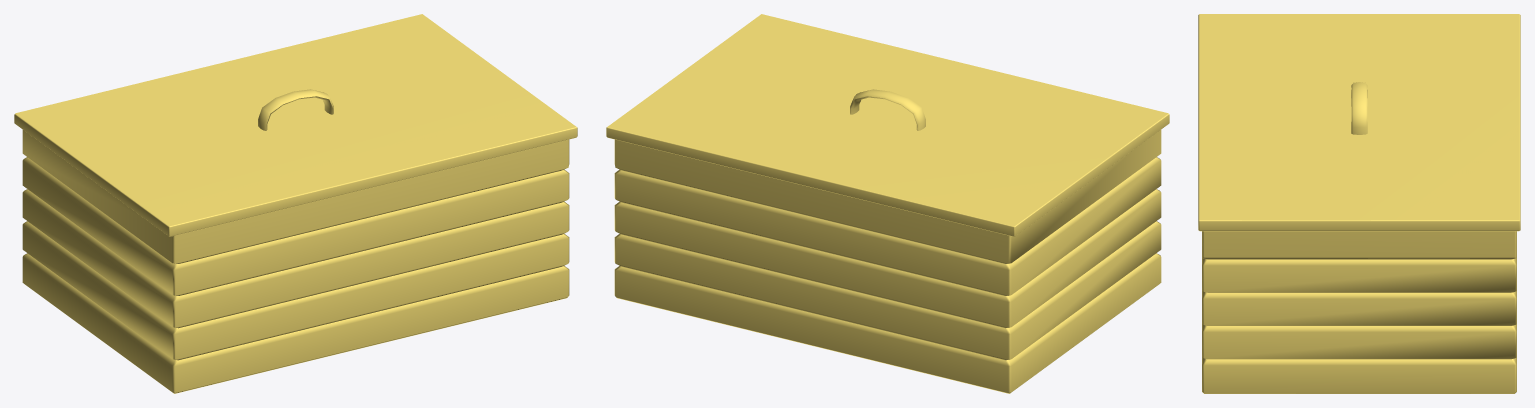
3 views of the same model, side by side, from view 1: azimuth 30°, elevation 25°; view 2: azimuth 150°, elevation 25°; view 3: azimuth 270°, elevation 25° (orthographic). The views are drawn at different scales.
Parts seen in each view (by area): view 1: Box_6; view 2: Box_6; view 3: Box_6.
Part boxes in pixels (x1,y1,x2,y2): Box_6: (14, 14, 577, 393); Box_6: (606, 14, 1169, 393); Box_6: (1198, 14, 1520, 393).
Size of the model in its own units: 0.4673 by 0.2164 by 0.3073.
Materials: 1 (1 with a texture image).
